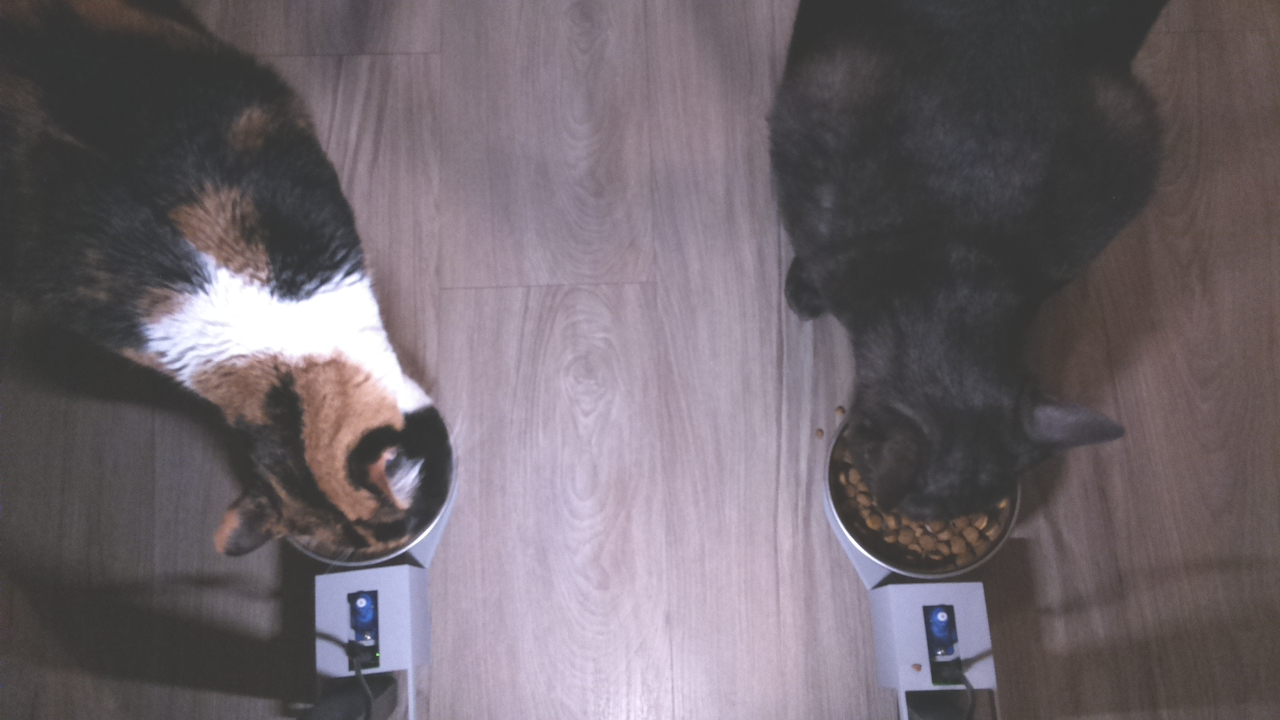bella_eating: (201, 313, 477, 587)
saki_eating: (819, 282, 1120, 584)
